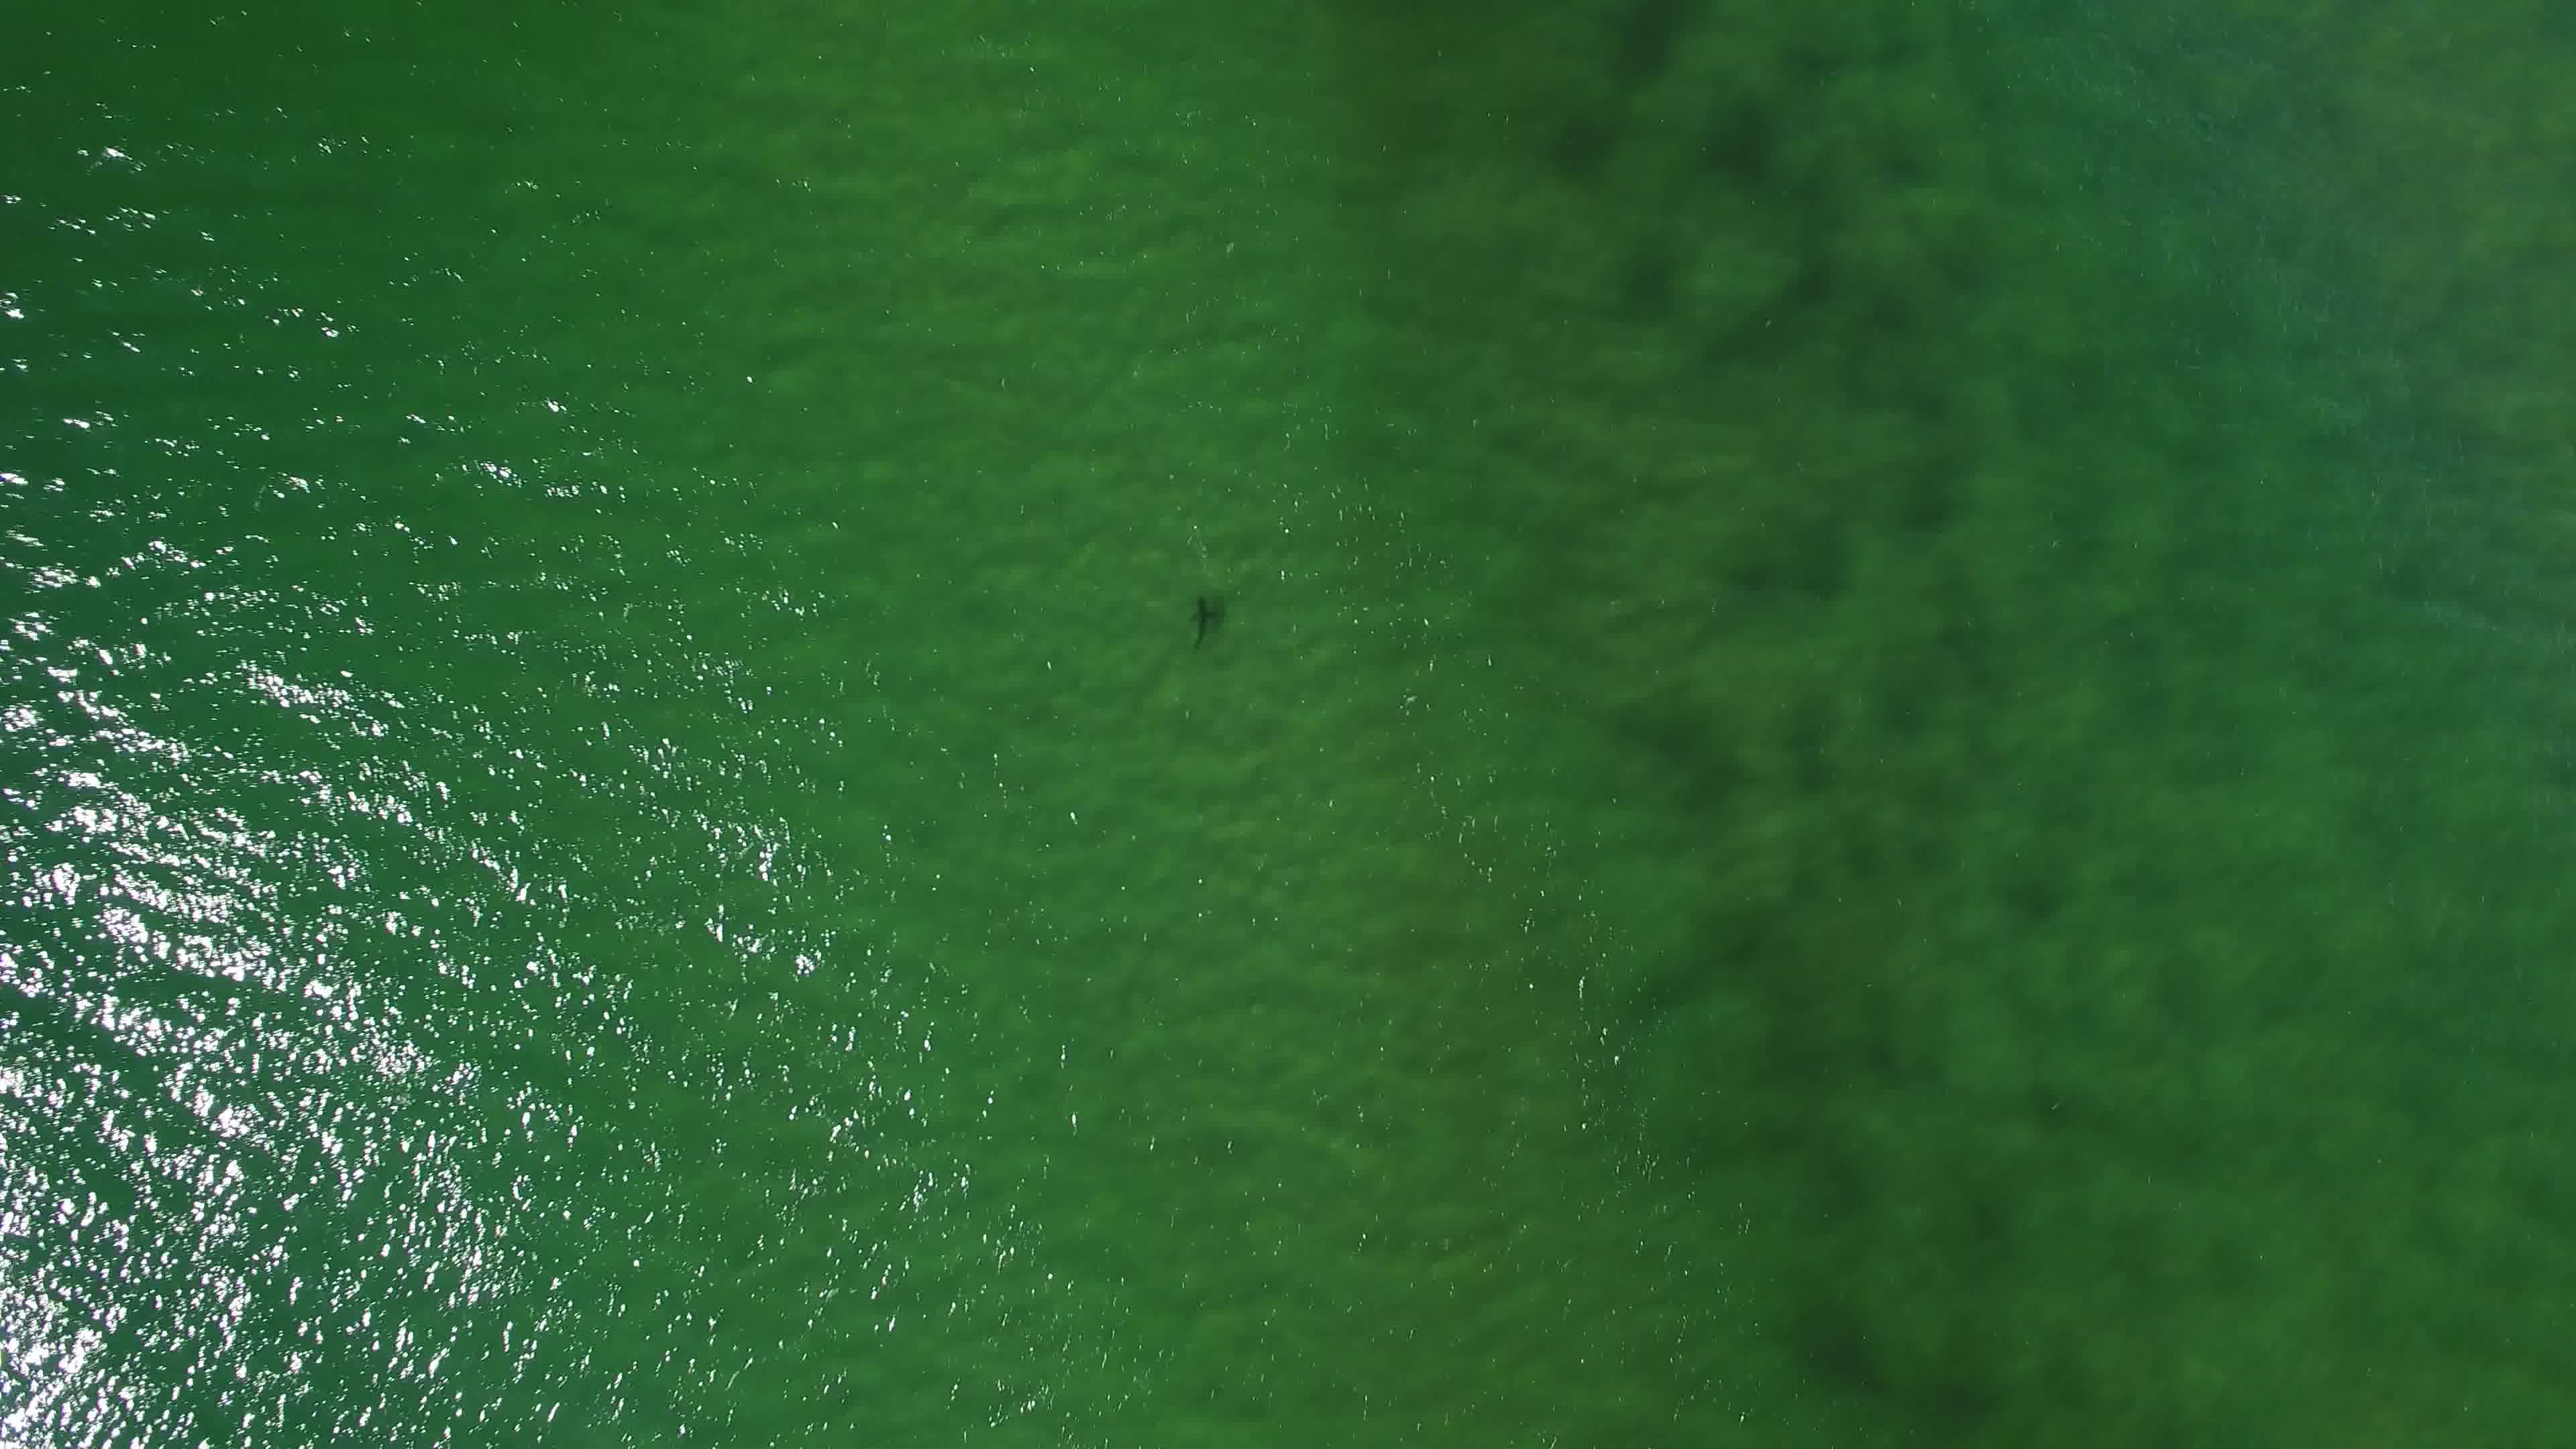shark: (1182, 591, 1228, 653)
